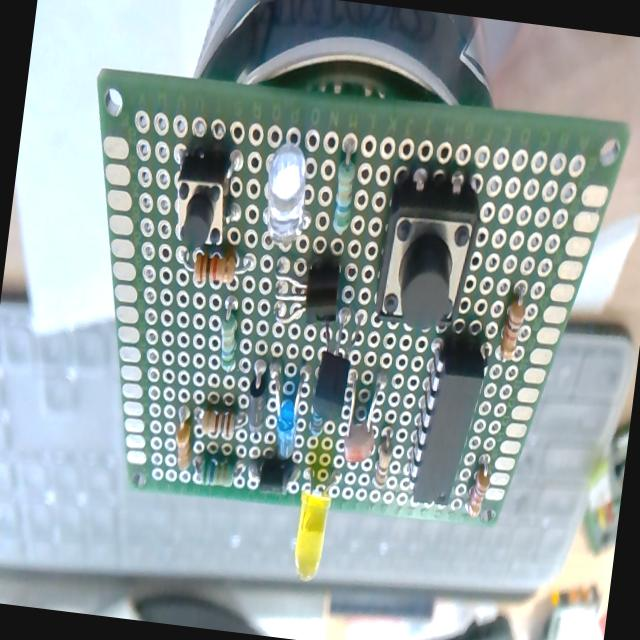IC: (406, 335, 491, 510)
cds: (340, 369, 386, 468)
diode: (251, 454, 302, 496), (244, 362, 270, 432)
led: (257, 138, 314, 248), (287, 468, 339, 582), (260, 359, 308, 462)
resistor: (177, 243, 253, 291), (330, 139, 360, 237), (494, 284, 526, 362), (463, 454, 492, 520), (190, 449, 238, 488), (216, 311, 241, 373), (172, 408, 196, 472), (199, 404, 236, 442), (372, 431, 395, 490)
switch: (373, 170, 484, 336), (168, 148, 232, 252)
transistor: (304, 308, 358, 440), (271, 253, 342, 330)
